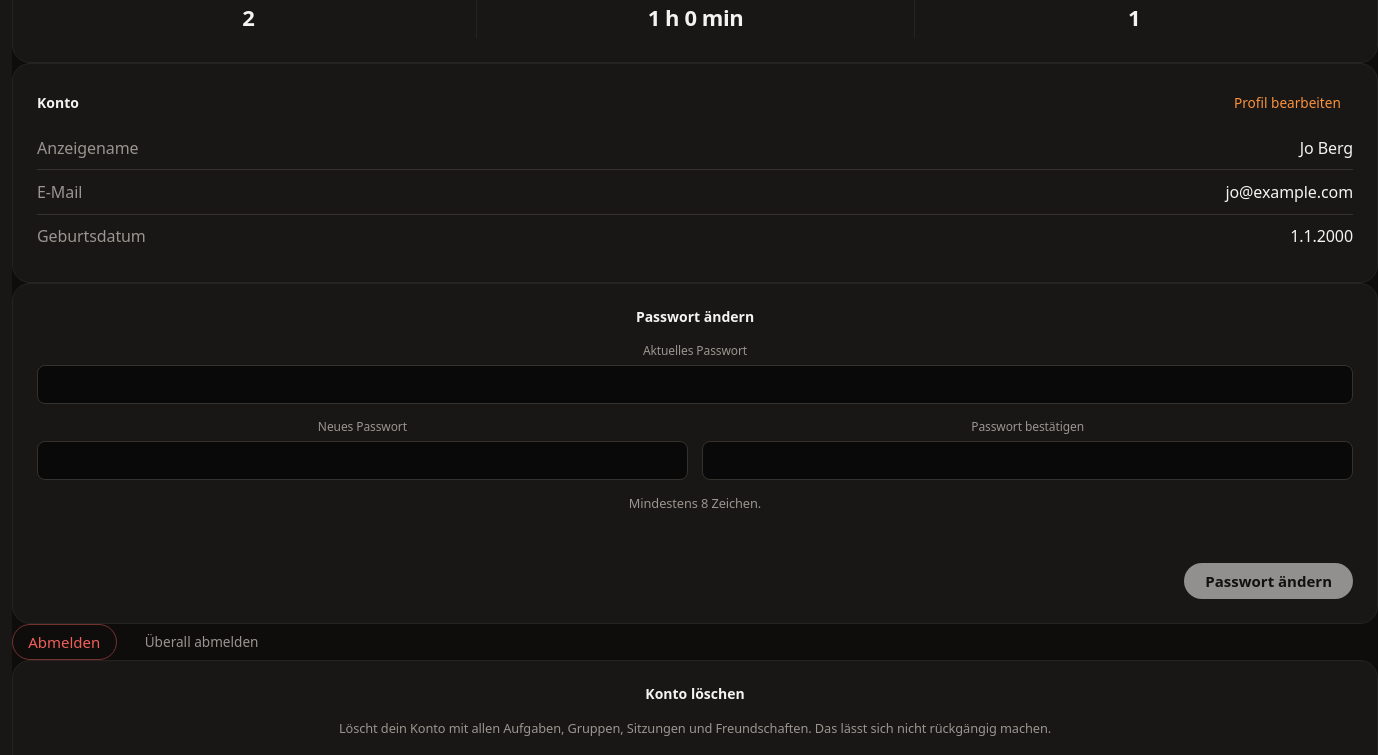
it: ProfileView › changing the password › changes it and clears the fields
(page scrolled)
Type "old-password" into the password field labelled "Aktuelles Passwort". click: (695, 384)
box: top-left (37, 365), bottom-right (1353, 404)
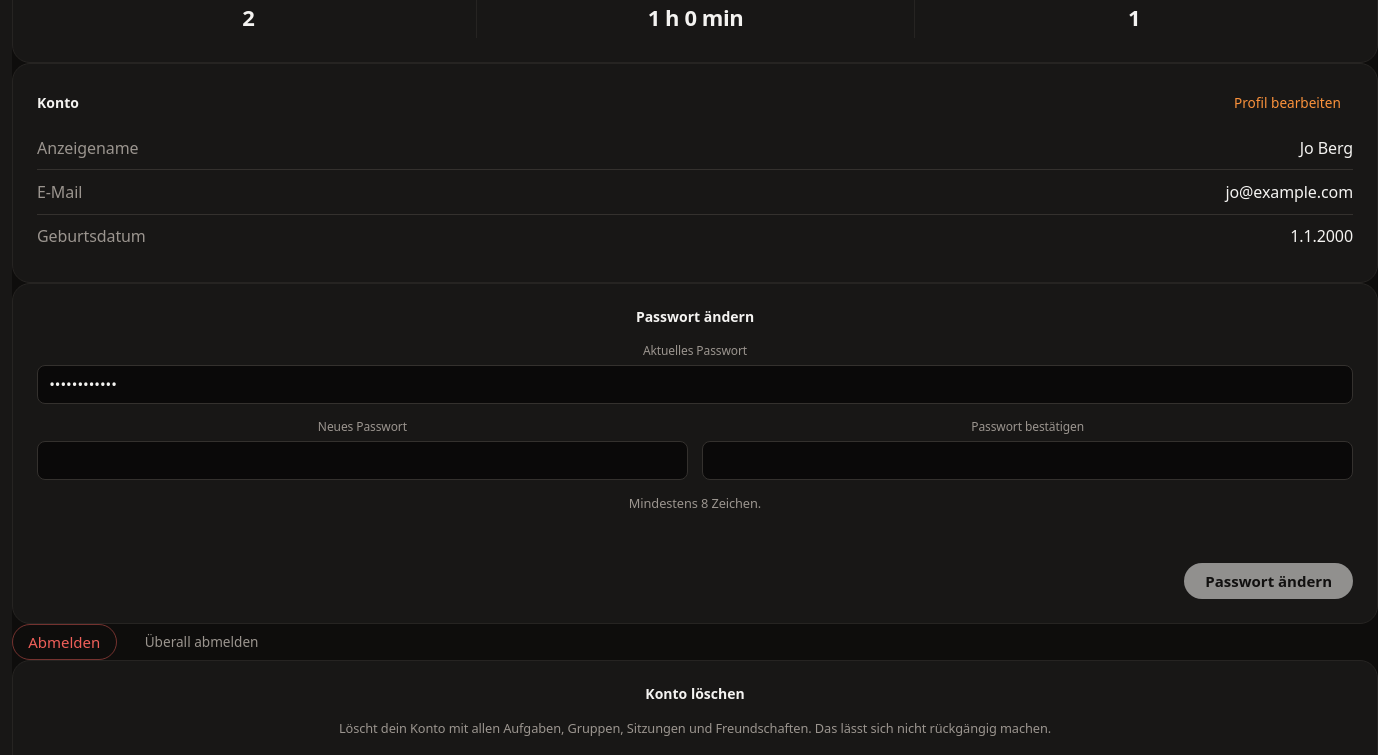
Type "new-password" into the password field labelled "Neues Passwort". click: (362, 460)
box: top-left (37, 441), bottom-right (688, 480)
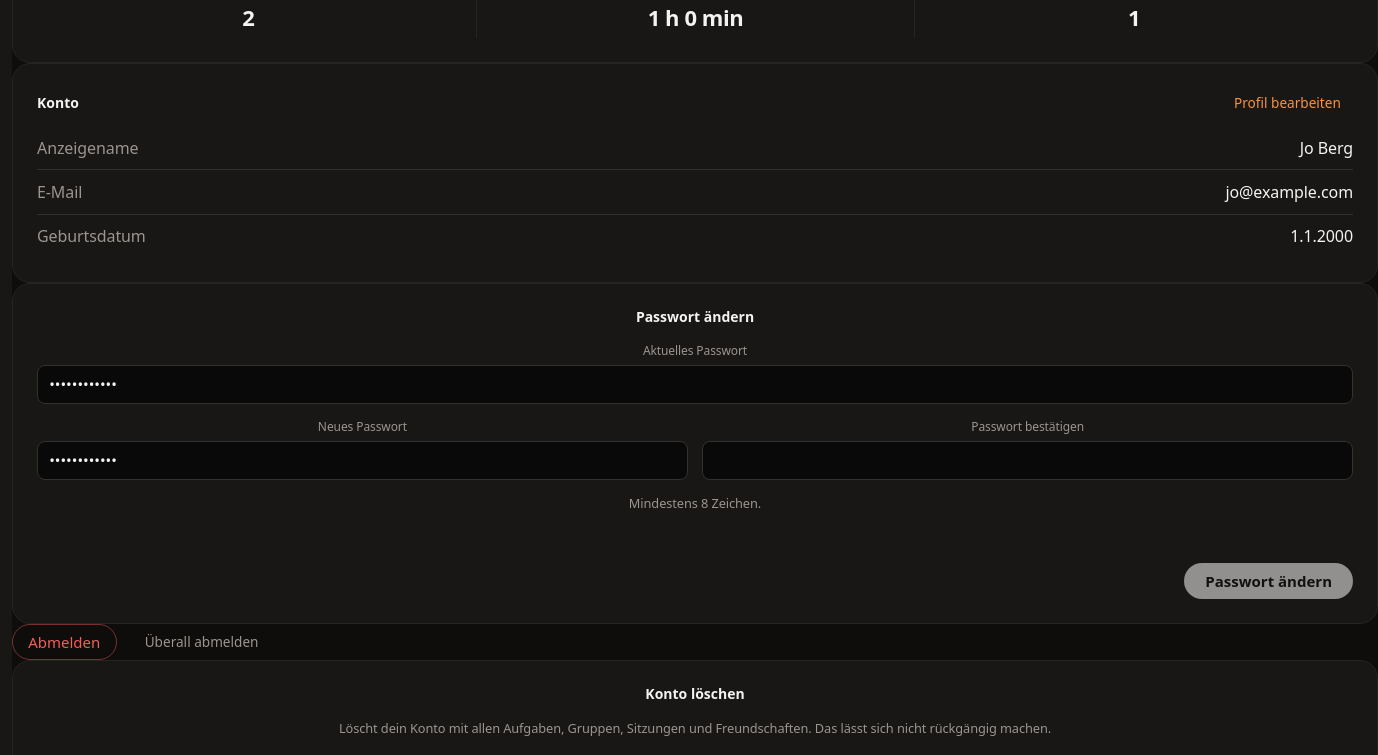
Type "new-password" into the password field labelled "Passwort bestätigen". click: (1028, 460)
box: top-left (702, 441), bottom-right (1353, 480)
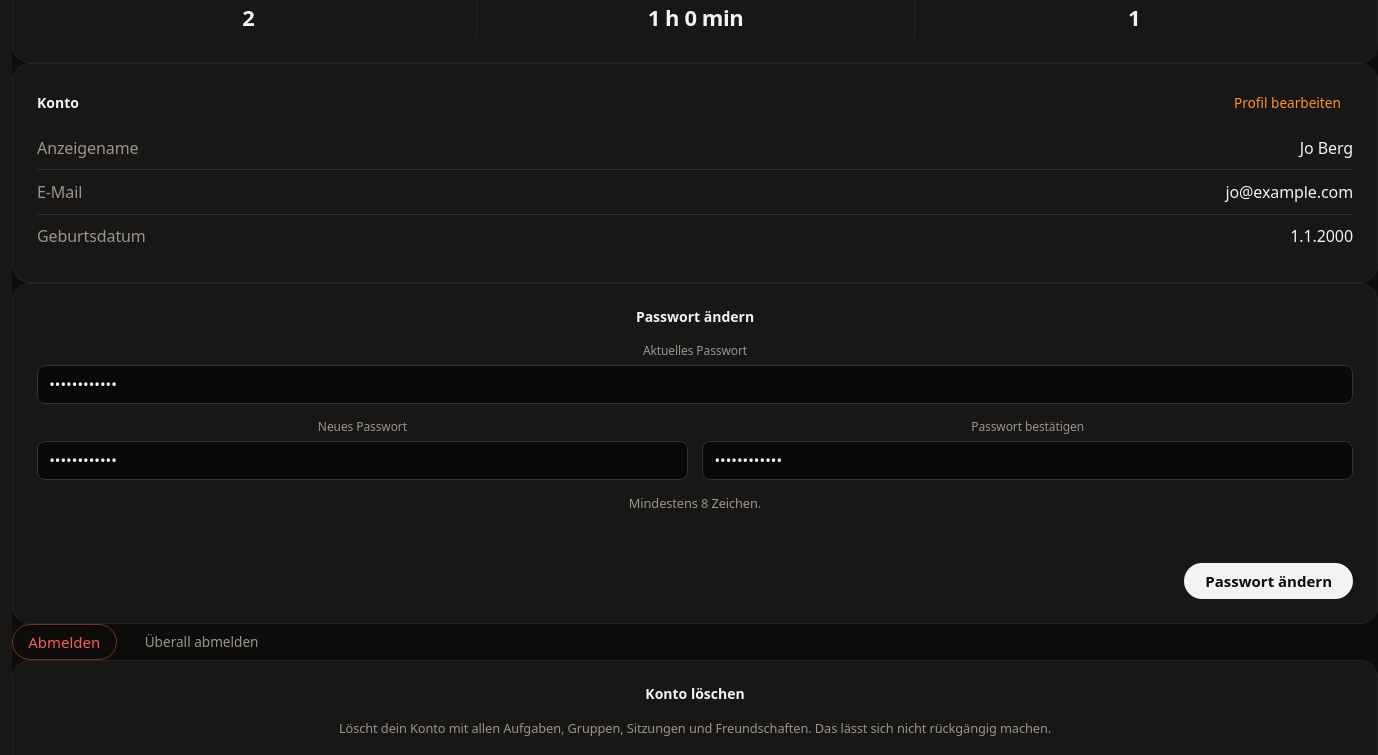
Click the button "Passwort ändern". click: (1269, 581)
box: top-left (1184, 563), bottom-right (1353, 599)
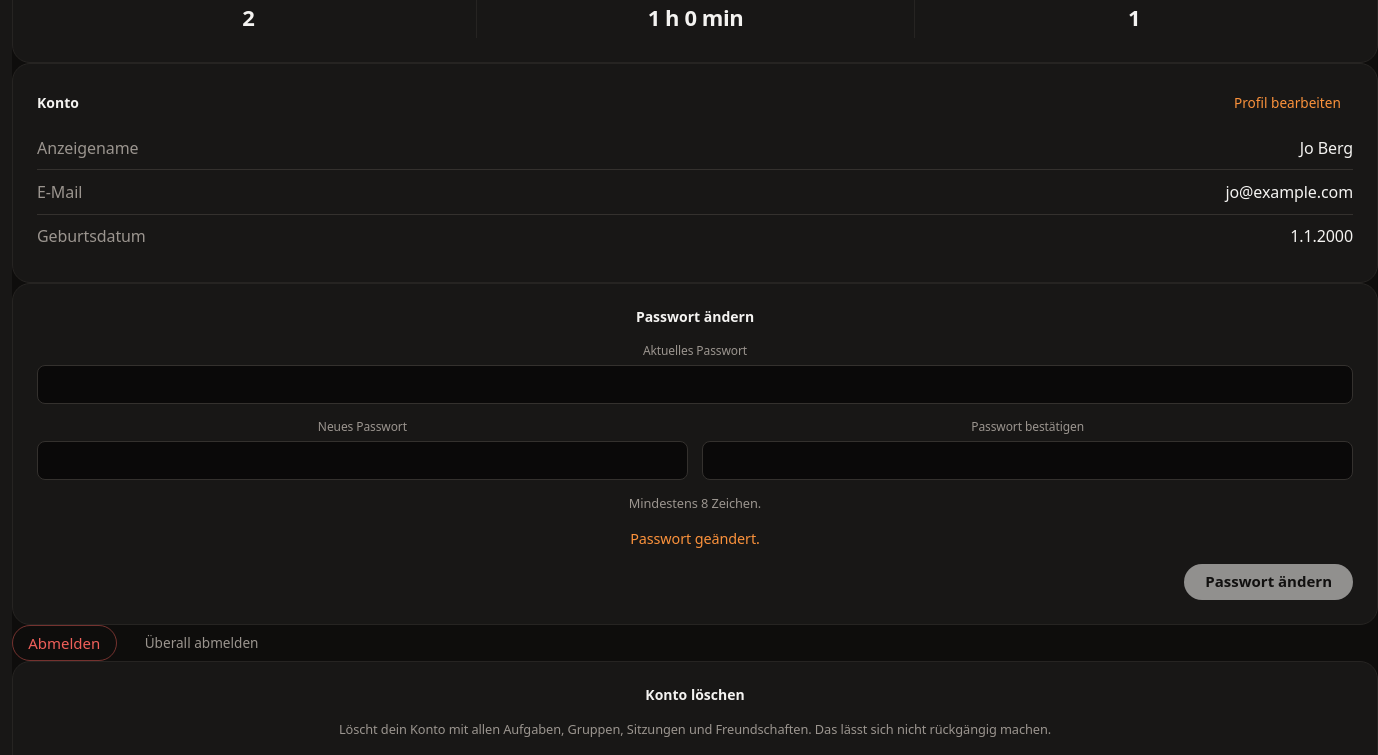
Expected: the text "Passwort geändert." is shown, top-left (630, 529), bottom-right (760, 548)
Expected: the password field labelled "Aktuelles Passwort" is empty, top-left (37, 365), bottom-right (1353, 404)
